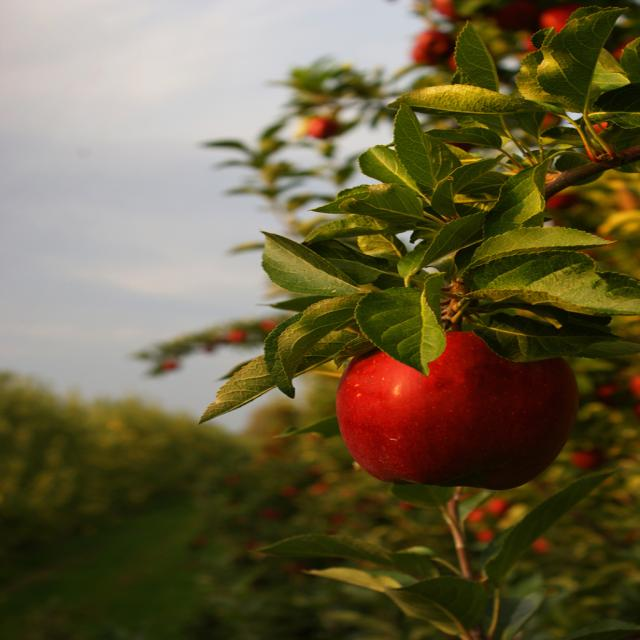Healty Apple: (331, 338, 585, 490)
